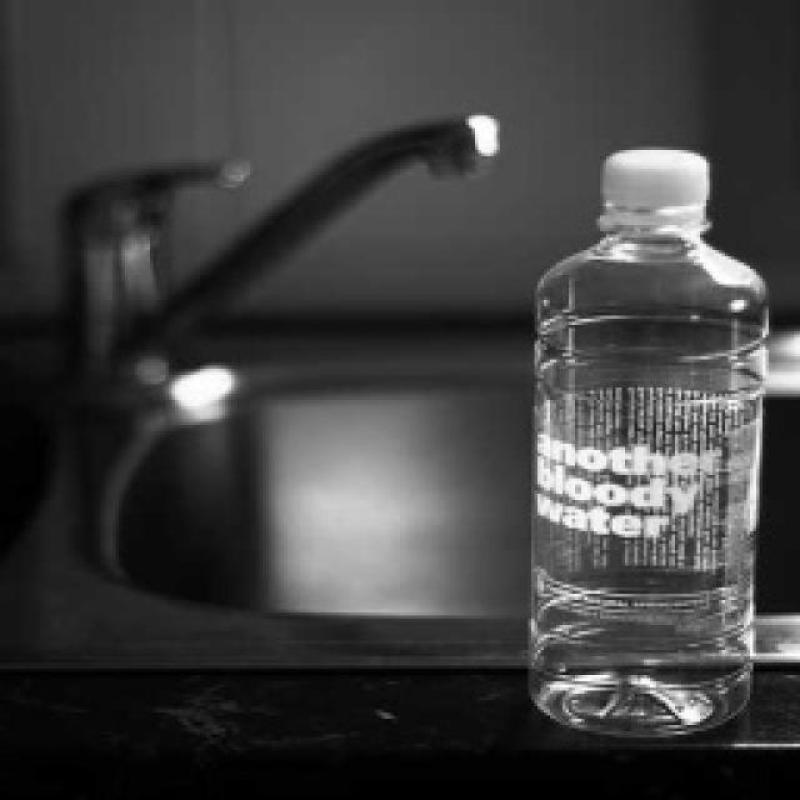botella: (538, 148, 768, 742)
